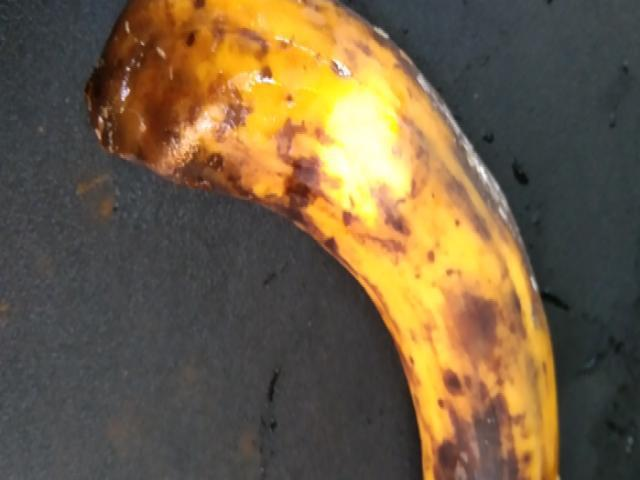rotten: (93, 7, 592, 479)
